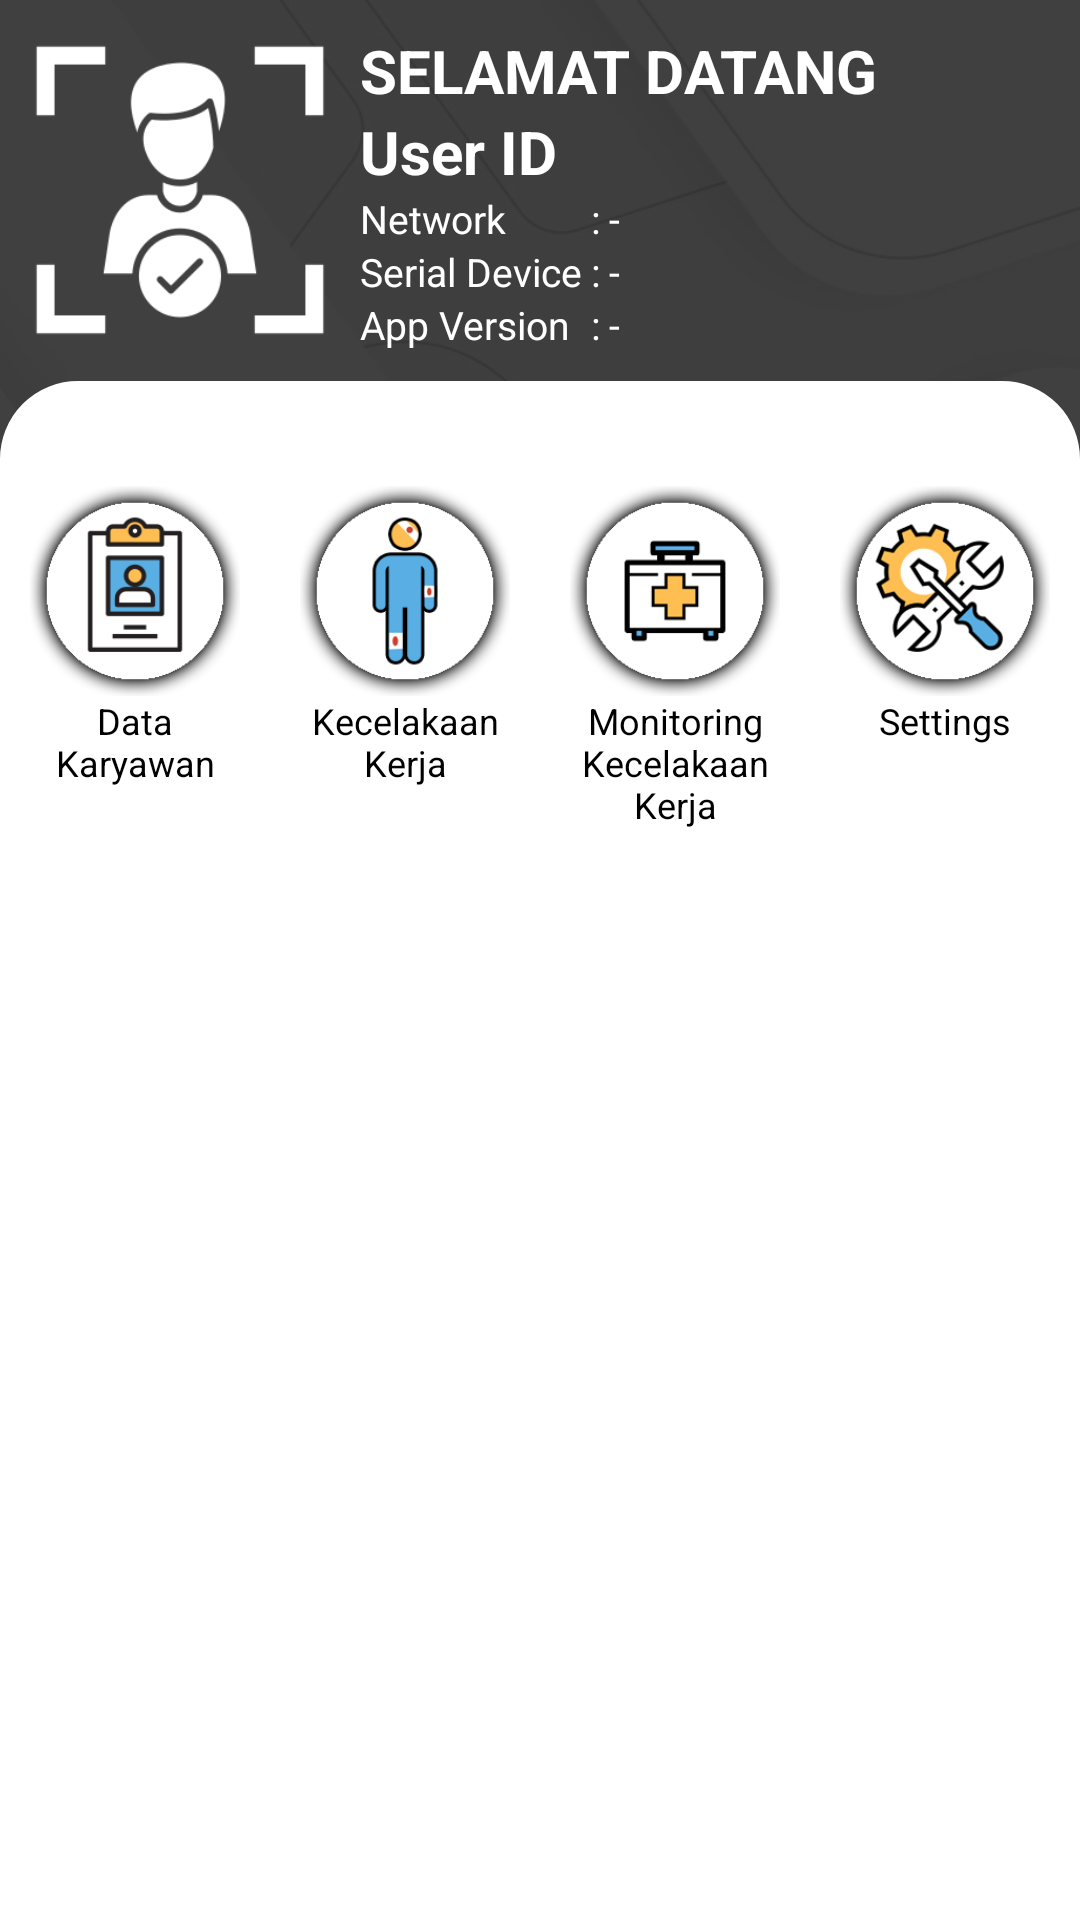

Named icons in this screenshot (1080x1920) and their centers, (x=x, y=y):
member: (x=135, y=591)
